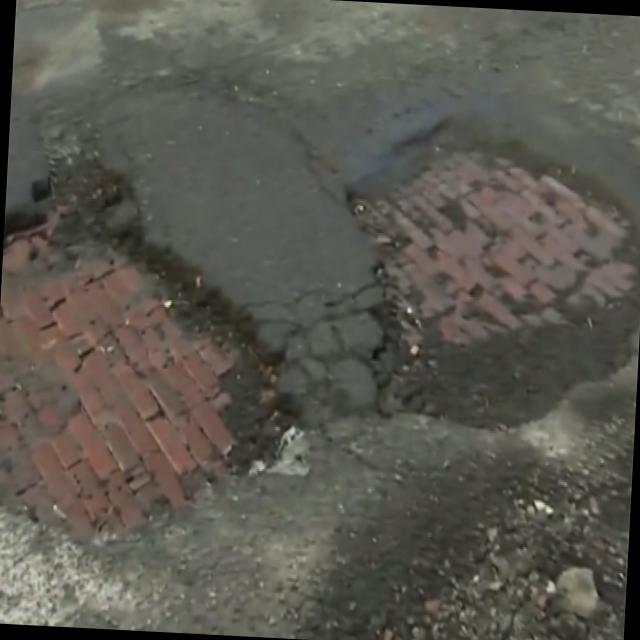Potholes: (0, 140, 322, 557), (320, 92, 640, 469)
